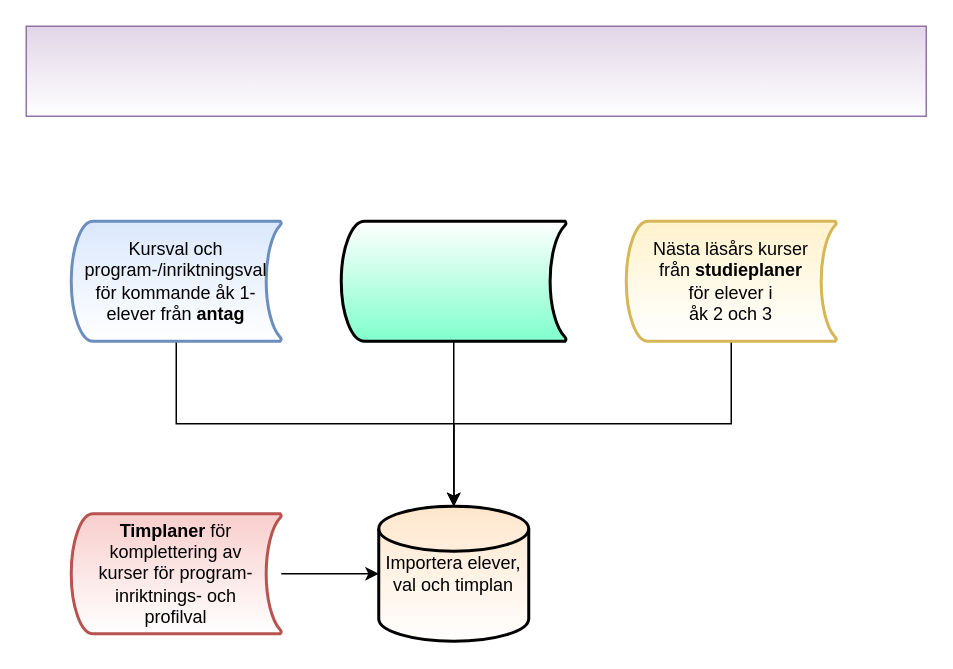
Image size: 953x669. Some labels were removed from this diagram. The centre of each missing label's shape, as x and y in pixels:
Kurser och inriktning-/profilval från valmodulen för elever i åk 2 och 3: the point at 453,280
Skapa undervisningsgrupper med data från olika källor: the point at 475,70
